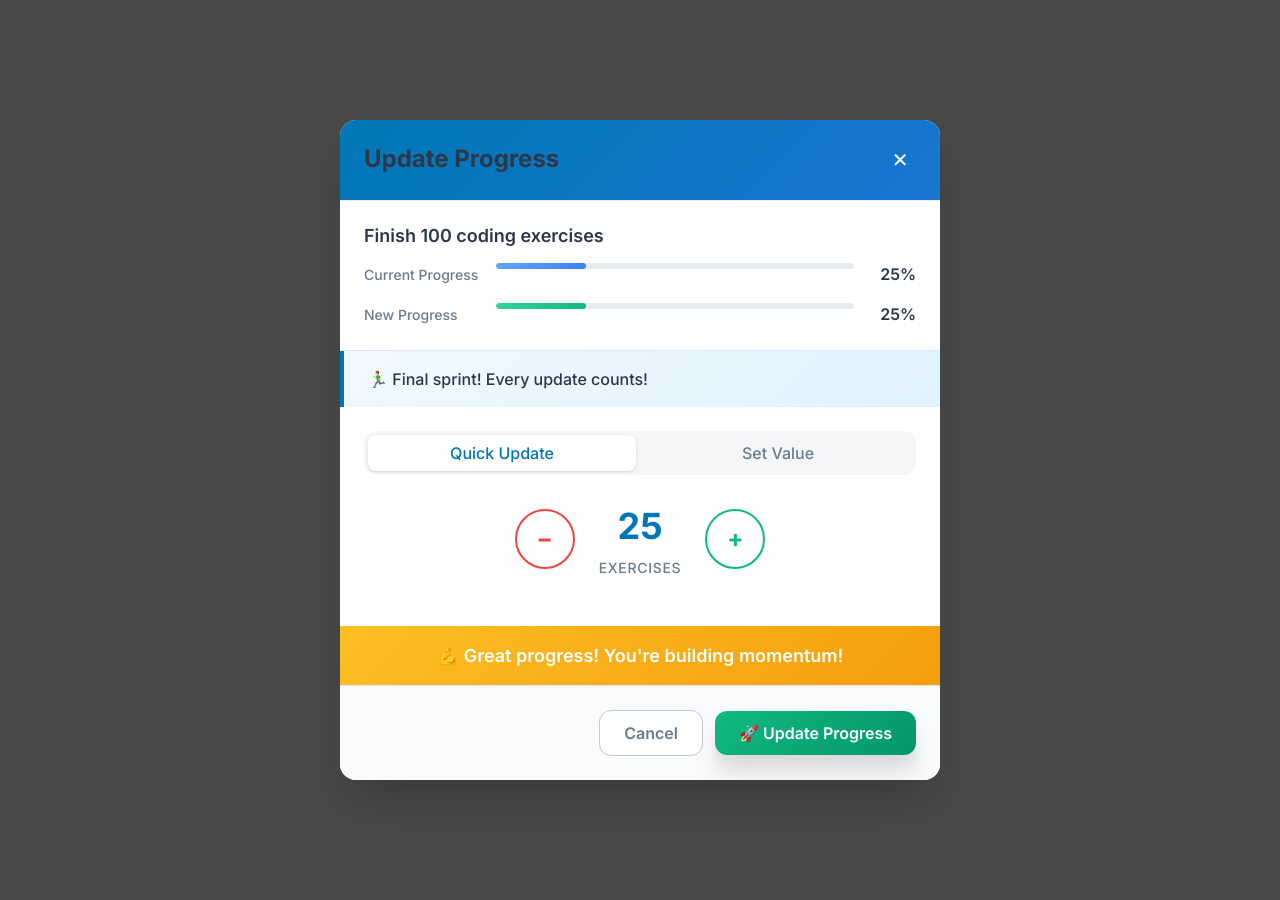
Test case: ProgressUpdateModal › Input Methods › decrement mode decreases value correctly
The image size is (1280, 900).
Click the button "−" at (545, 539), box 515,509 -> 575,569
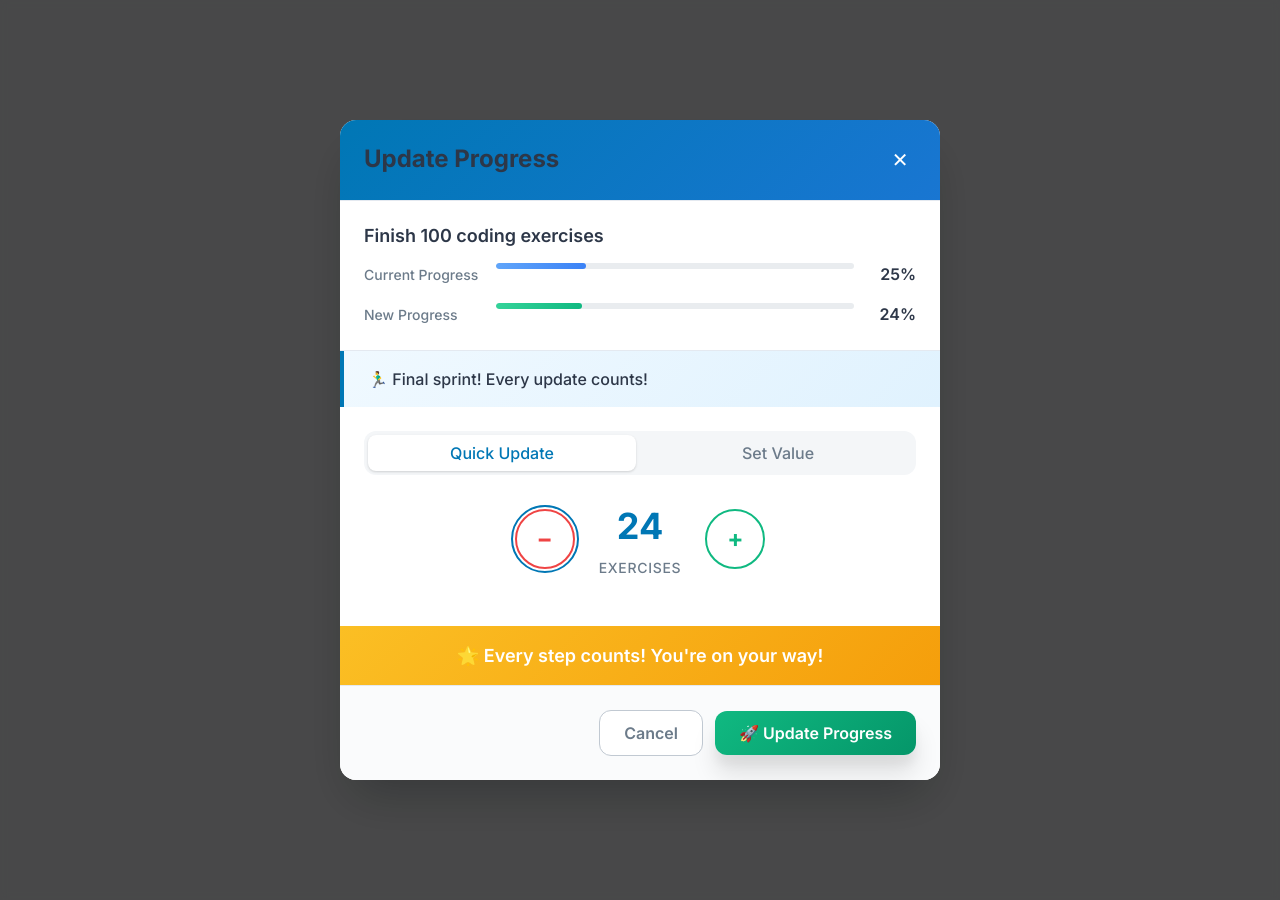
Now the text "24" is shown, box 617,499 -> 663,553
